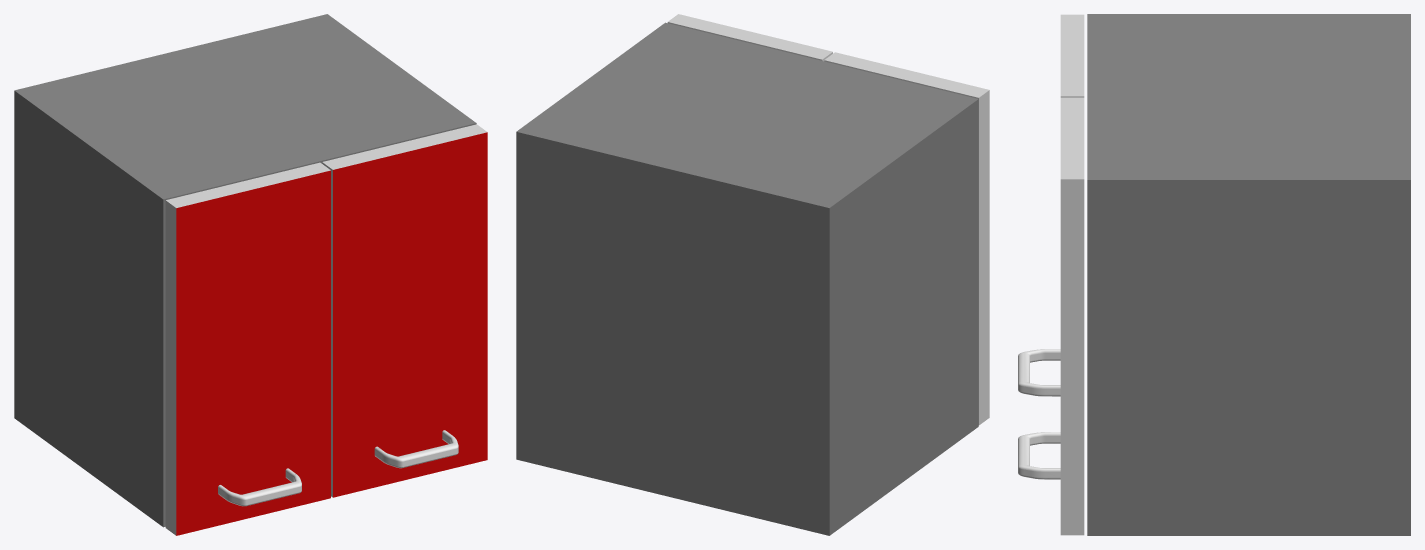
Rendered from sh-lp-pensile-doppio.glb.
3 views of the same model, side by side, from view 1: azimuth 30°, elevation 25°; view 2: azimuth 150°, elevation 25°; view 3: azimuth 270°, elevation 25° (orthographic). The views are drawn at different scales.
Parts seen in each view (by area): view 1: Box172_2, Box16_5, Box17_1, Loft08_4; view 2: Box16_5, Box17_1; view 3: Box16_5, Box17_1, Loft08_4.
Boxes of the visible parts, box(x1,y1,x2,y2) form: Box172_2: box(176, 132, 487, 535); Box16_5: box(14, 14, 476, 527); Box17_1: box(165, 124, 487, 535); Loft08_4: box(218, 430, 458, 506); Box16_5: box(516, 22, 978, 535); Box17_1: box(667, 14, 989, 425); Box16_5: box(1087, 14, 1410, 535); Box17_1: box(1060, 14, 1084, 535); Loft08_4: box(1018, 349, 1060, 479).
Bounding box in the file's own units: 1 × 1 × 1.
